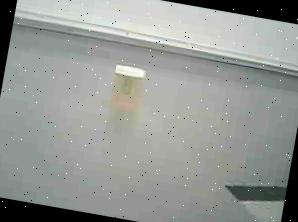Bottle B: (100, 58, 160, 122)
